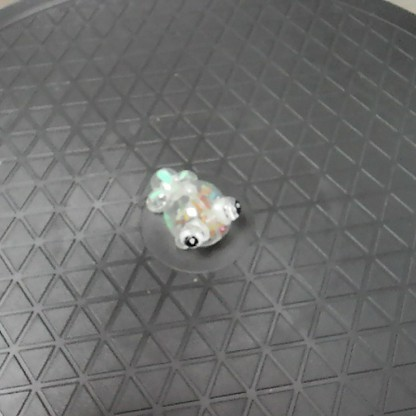whitefish: (138, 160, 246, 255)
